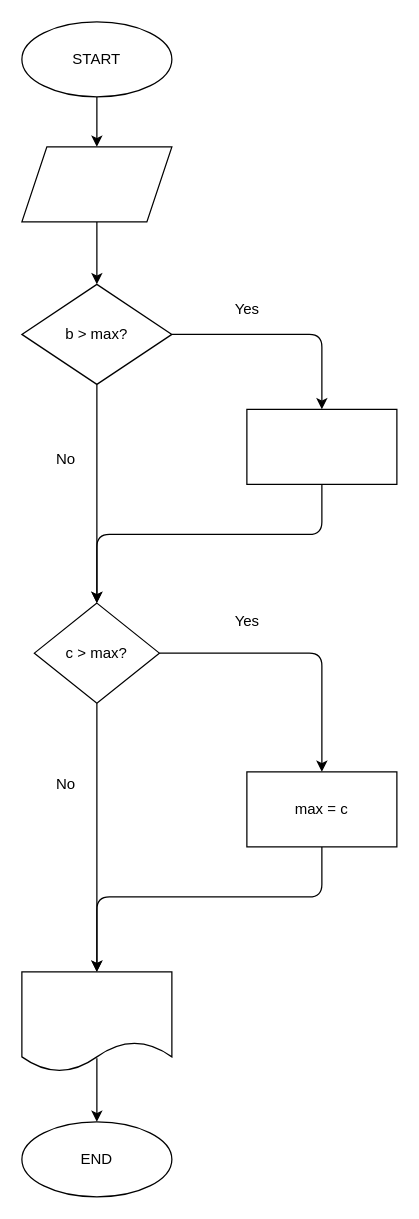
Some shapes in this 419 by 1219 pixel diagram are drawn without their labels. The shapes that lost their labels are listed below. From the top down, each one's box as (x1, y1, x2, y2) in pixels, then its label:
(21, 146, 172, 222): Ввод a, b, c max = a
(246, 408, 397, 484): max = b
(21, 971, 172, 1072): Вывод max
